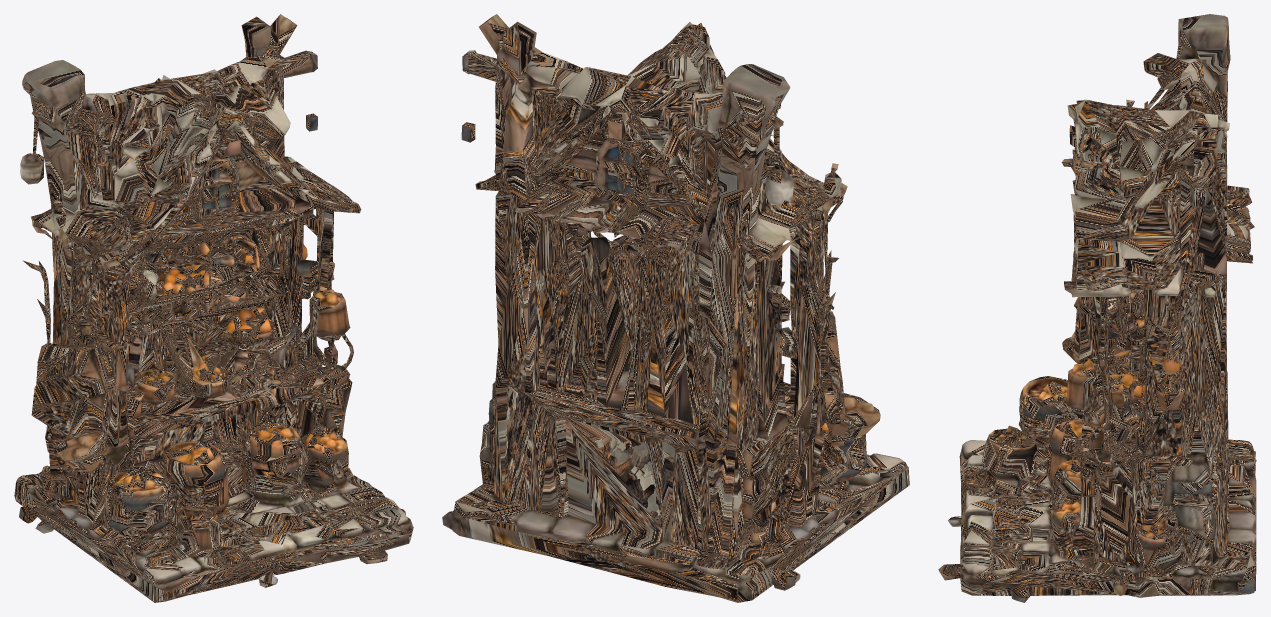
The model's file is lib_stall_timber.lod.glb.
3 views of the same model, side by side, from view 1: azimuth 30°, elevation 25°; view 2: azimuth 150°, elevation 25°; view 3: azimuth 270°, elevation 25° (orthographic). The views are drawn at different scales.
Bounding box in the file's own units: 1.39 × 1.9 × 1.19.
Materials: 1 (1 with a texture image).
